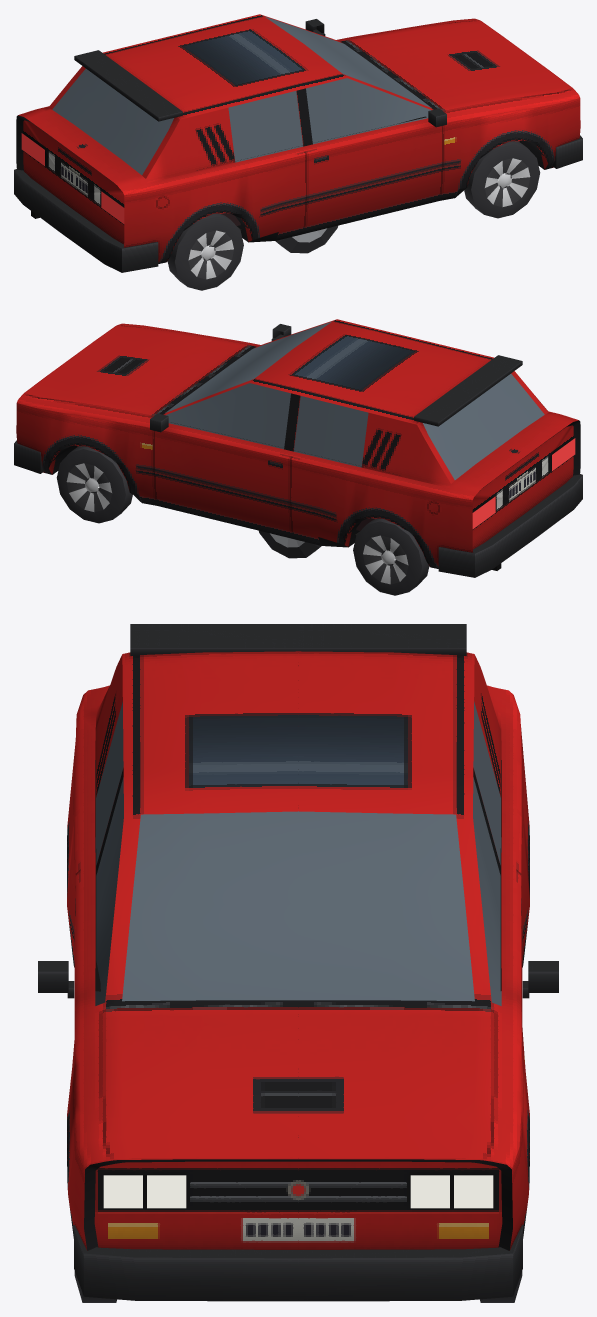
File: pica.glb
The picture shows the model from 3 angles, top to bottom: view 1: azimuth 30°, elevation 25°; view 2: azimuth 150°, elevation 25°; view 3: azimuth 270°, elevation 25°; orthographic projection. The views are drawn at different scales.
Visible parts, largest first — view 1: body, wheel rear right, wheel front right, wheel_blur; view 2: body, wheel rear left, wheel front left, wheel_blur; view 3: body.
Boxes of the visible parts, <box> form: body: <box>14,14,582,272</box>; wheel rear right: <box>167,213,243,290</box>; wheel front right: <box>464,141,540,218</box>; wheel_blur: <box>275,225,337,253</box>; body: <box>14,319,582,577</box>; wheel rear left: <box>353,518,429,595</box>; wheel front left: <box>56,446,132,523</box>; wheel_blur: <box>259,530,321,558</box>; body: <box>38,624,558,1301</box>.
Bounding box in the file's own units: 3.57 × 1.51 × 1.71.
10 materials, 1 textured.
